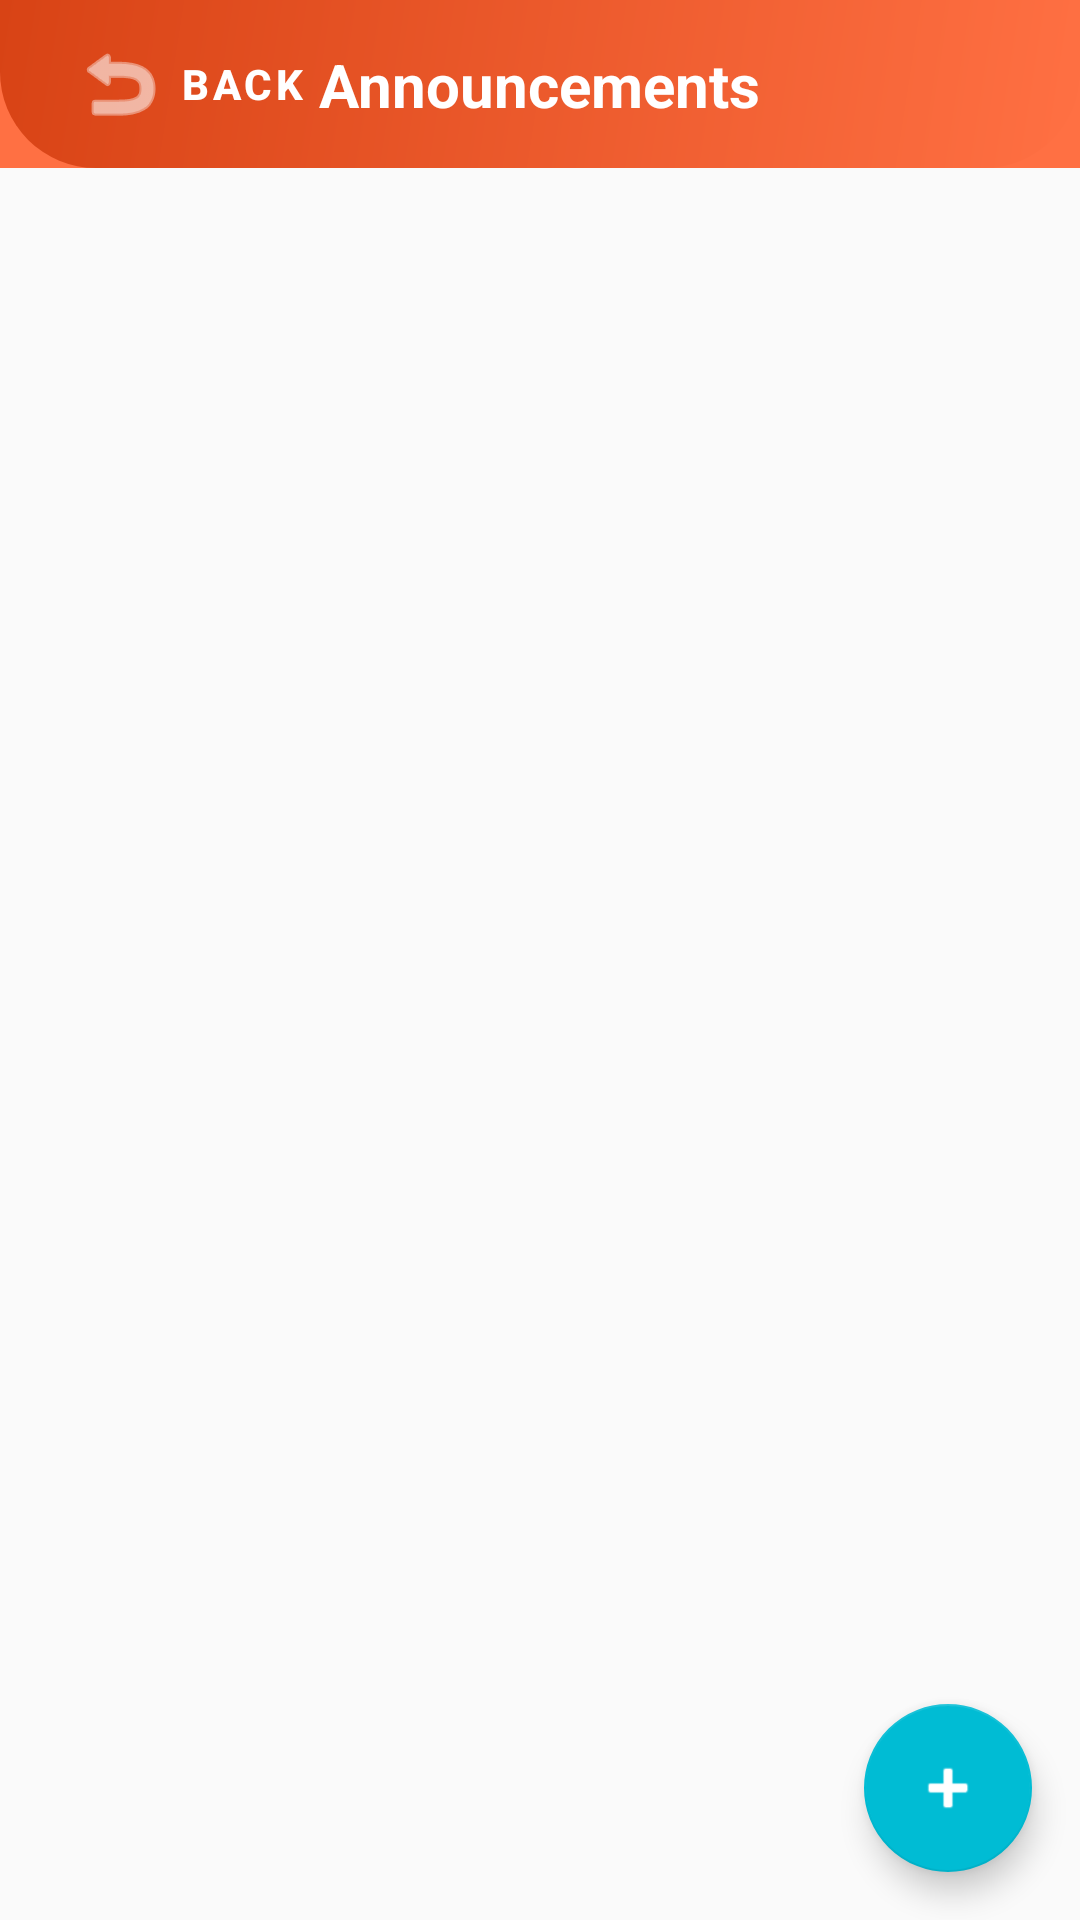

Named icons in this screenshot (1080 x 1920) and their bounding boxes, (x1, y1, x2, y2):
Add Announcement: (864, 1704, 1032, 1872)
